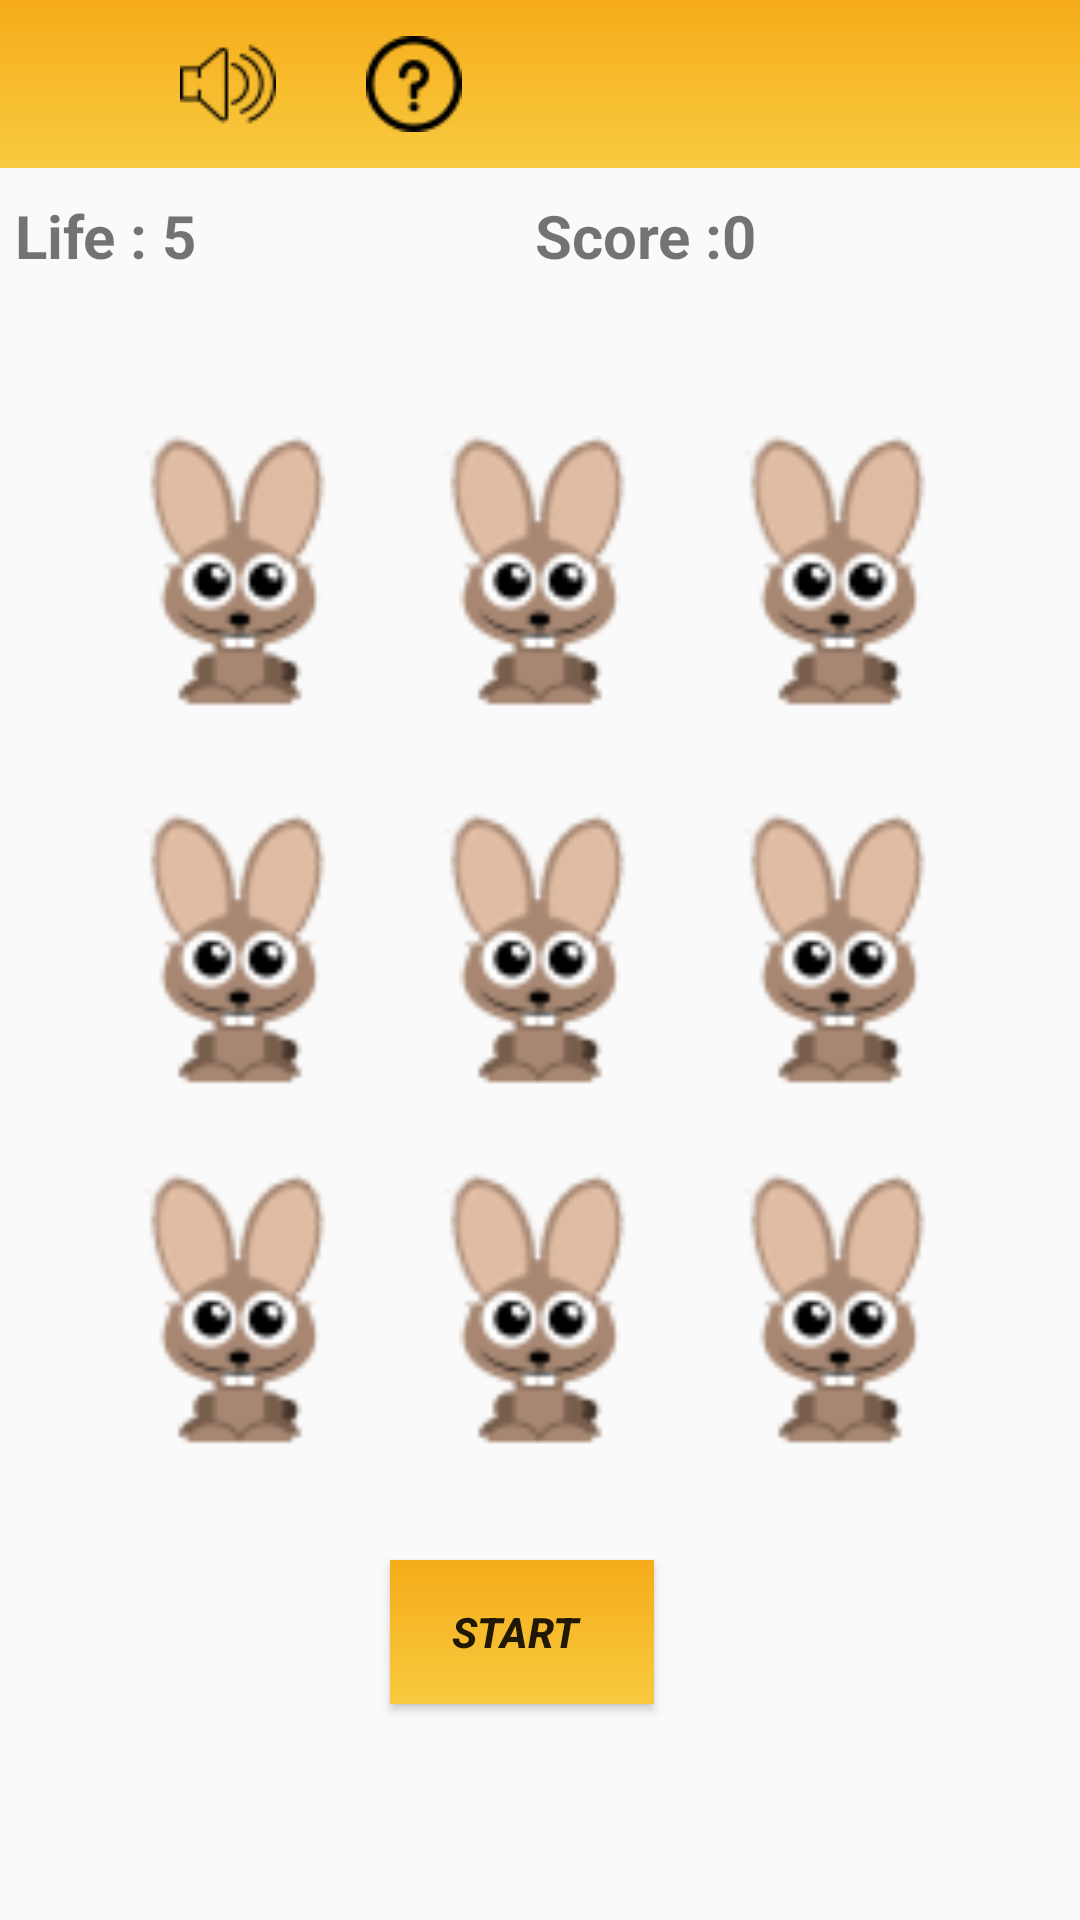

Where to tap for icons on this 1080px×1920px app screen, as point (x, y):
information: point (414, 84)
speaker: point (228, 88)
